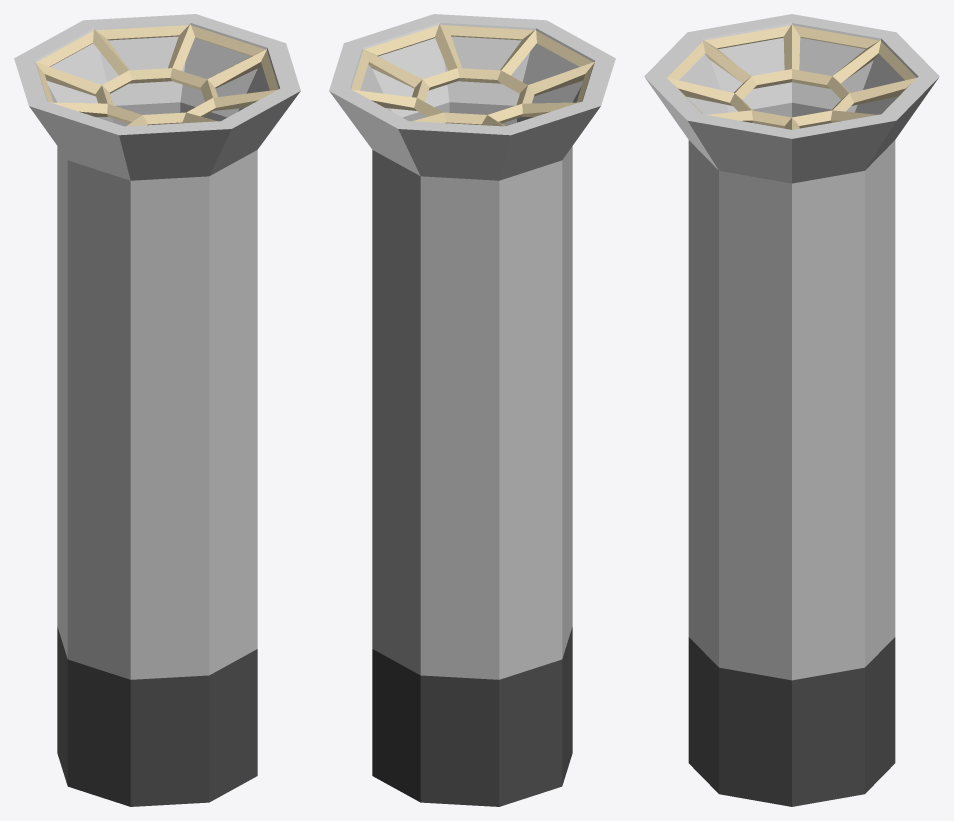
The model's file is BallHolder.fbx.
3 renders of one model, left to right at view 1: azimuth 30°, elevation 25°; view 2: azimuth 150°, elevation 25°; view 3: azimuth 270°, elevation 25°, orthographic.
Parts seen in each view (by area): view 1: Holder, HolderBottom, Net; view 2: Holder, HolderBottom, Net; view 3: Holder, HolderBottom, Net.
Part boxes in pixels (x1,y1,x2,y2): Holder: [14, 14, 300, 679]; HolderBottom: [57, 627, 257, 806]; Net: [35, 24, 278, 126]; Holder: [329, 14, 615, 679]; HolderBottom: [372, 627, 572, 806]; Net: [351, 24, 594, 126]; Holder: [644, 14, 939, 680]; HolderBottom: [688, 637, 895, 806]; Net: [667, 25, 916, 129].
Bounding box in the file's own units: 35.71 × 91.53 × 35.71.
